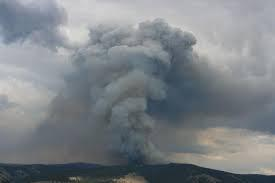yanwu: (48, 16, 199, 166)
